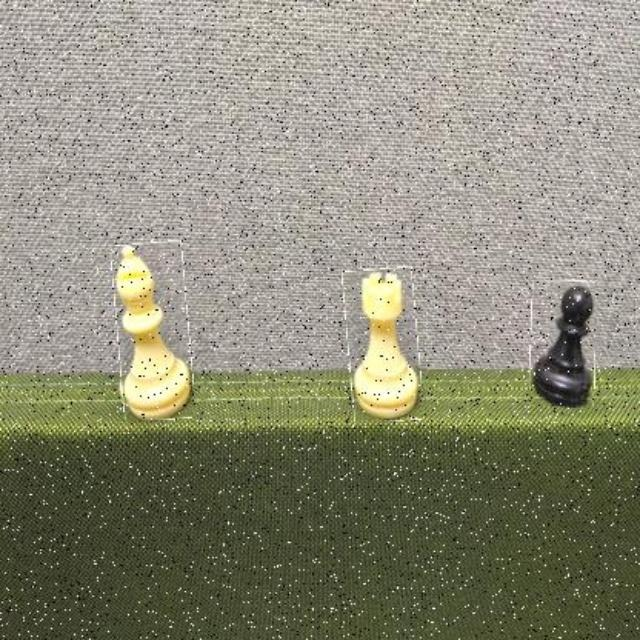white-bishop: (115, 242, 193, 422)
white-pawn: (530, 280, 596, 407)
white-rook: (344, 268, 419, 421)
